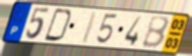4: (123, 15, 144, 48)
5: (24, 7, 52, 41), (96, 12, 119, 45)
B: (140, 16, 171, 50)
D: (42, 7, 74, 43)
I: (79, 11, 99, 46)
